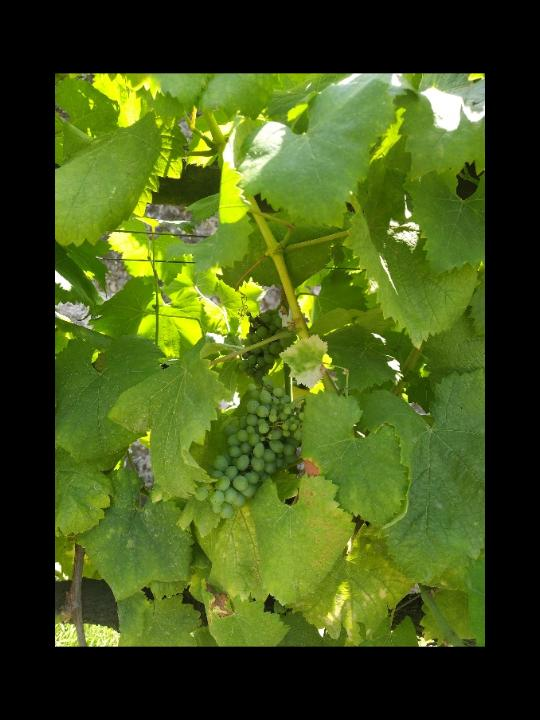grape: (192, 381, 307, 520), (237, 307, 299, 383)
